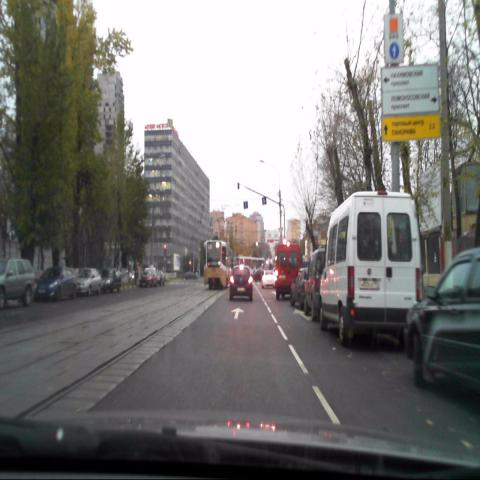4_8_2: (384, 14, 403, 63)
